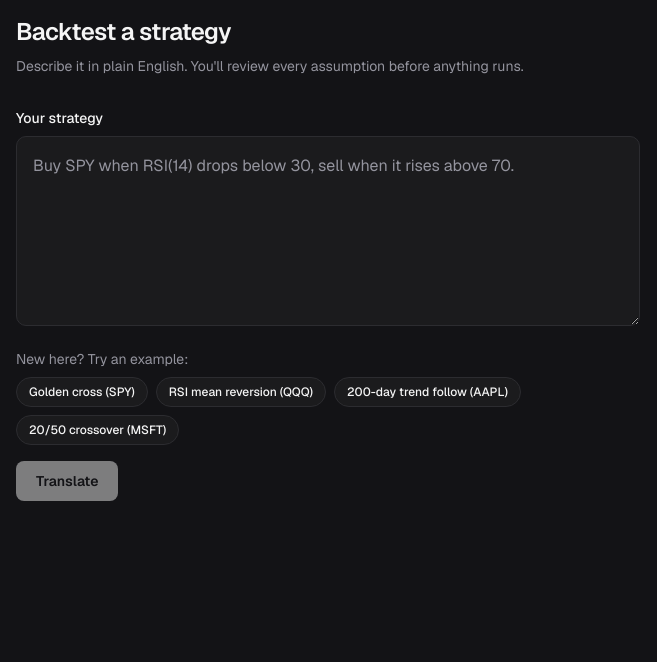
Test: CONTRACT 12: loading view REPLACES the surface while a request is in flight › translating error: the input view returns with the error banner AND the typed text preserved
Step 1. Replace the text in the text box with test id "nl-input" with "buy SPY when RSI < 30" → [328, 231], box x1=16 y1=136 x2=640 y2=326
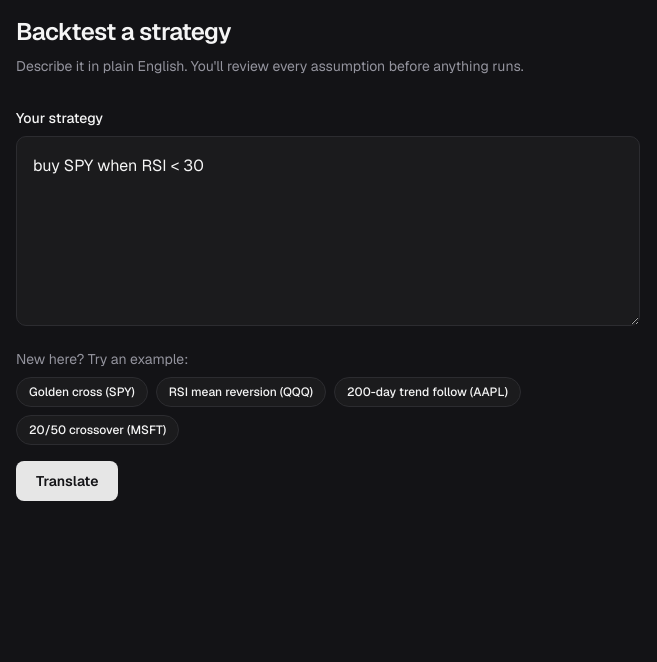
Step 2. Click the button with test id "translate-submit" → [67, 481], box x1=16 y1=461 x2=118 y2=501
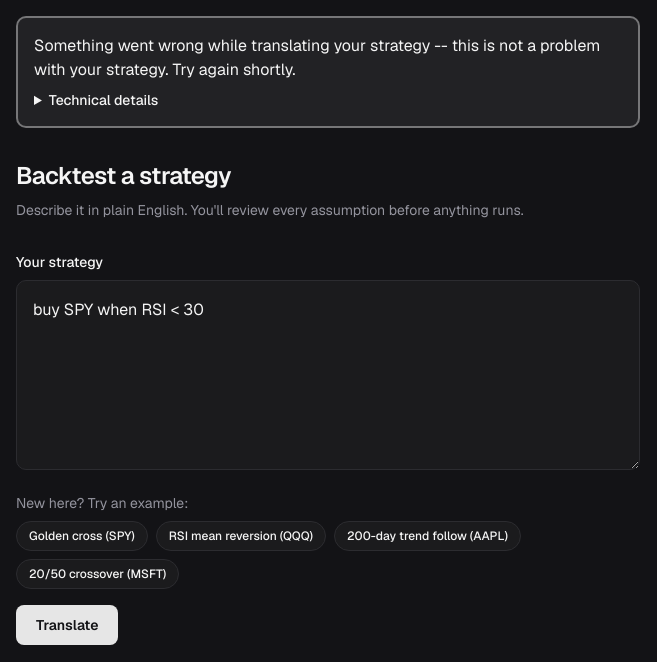
Expected: the text box with test id "nl-input" holds "buy SPY when RSI < 30", x1=16 y1=280 x2=640 y2=470
Expected: the message with test id "translate-error" is shown, x1=16 y1=16 x2=640 y2=128
